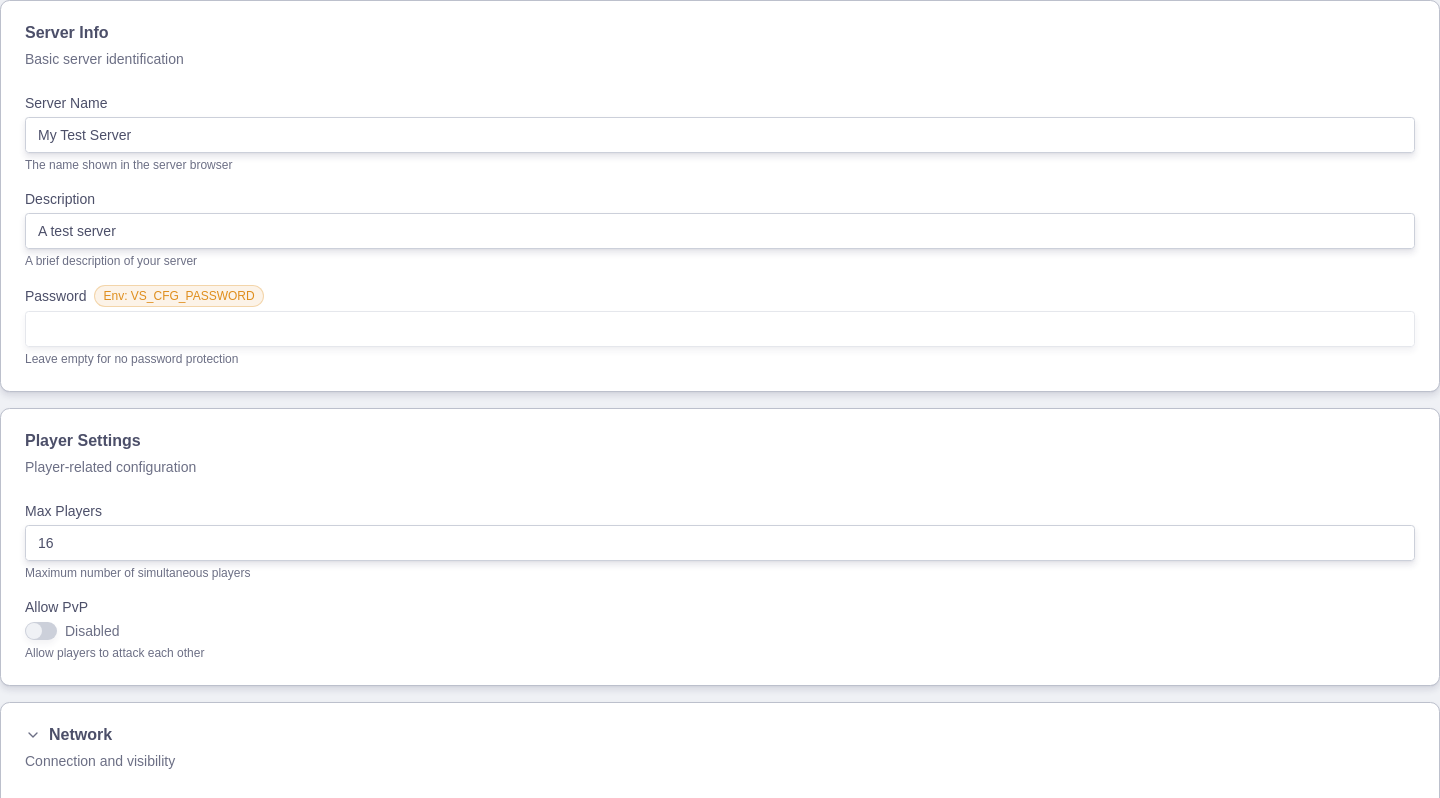
GameConfigPanel › updating settings › shows validation error for invalid values
The width and height of the screenshot is (1440, 798).
Clear server name (required field)
Clear the field labelled "Server Name" at (720, 135), box [25,117,1415,153]
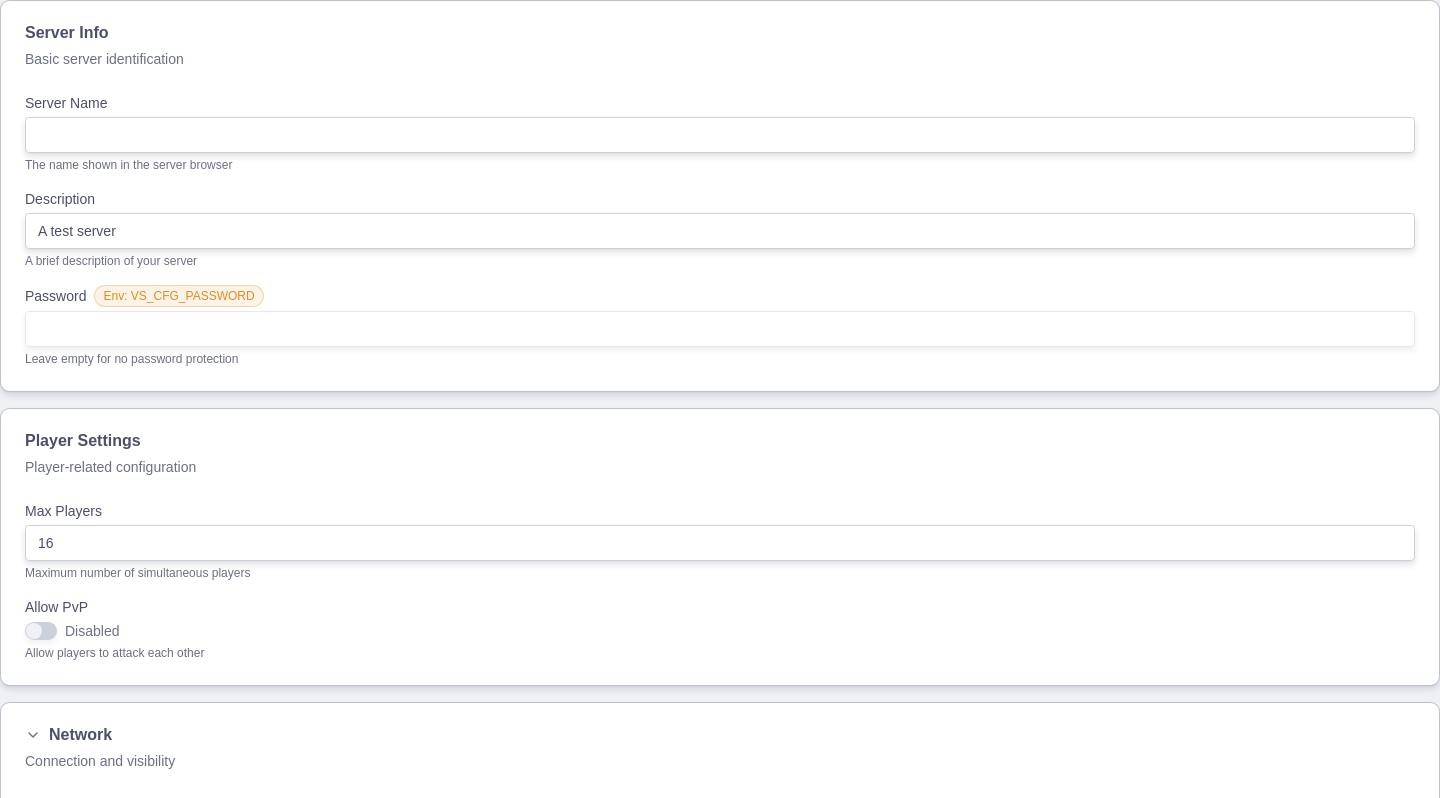
Leave the field labelled "Server Name", box [25,117,1415,153]
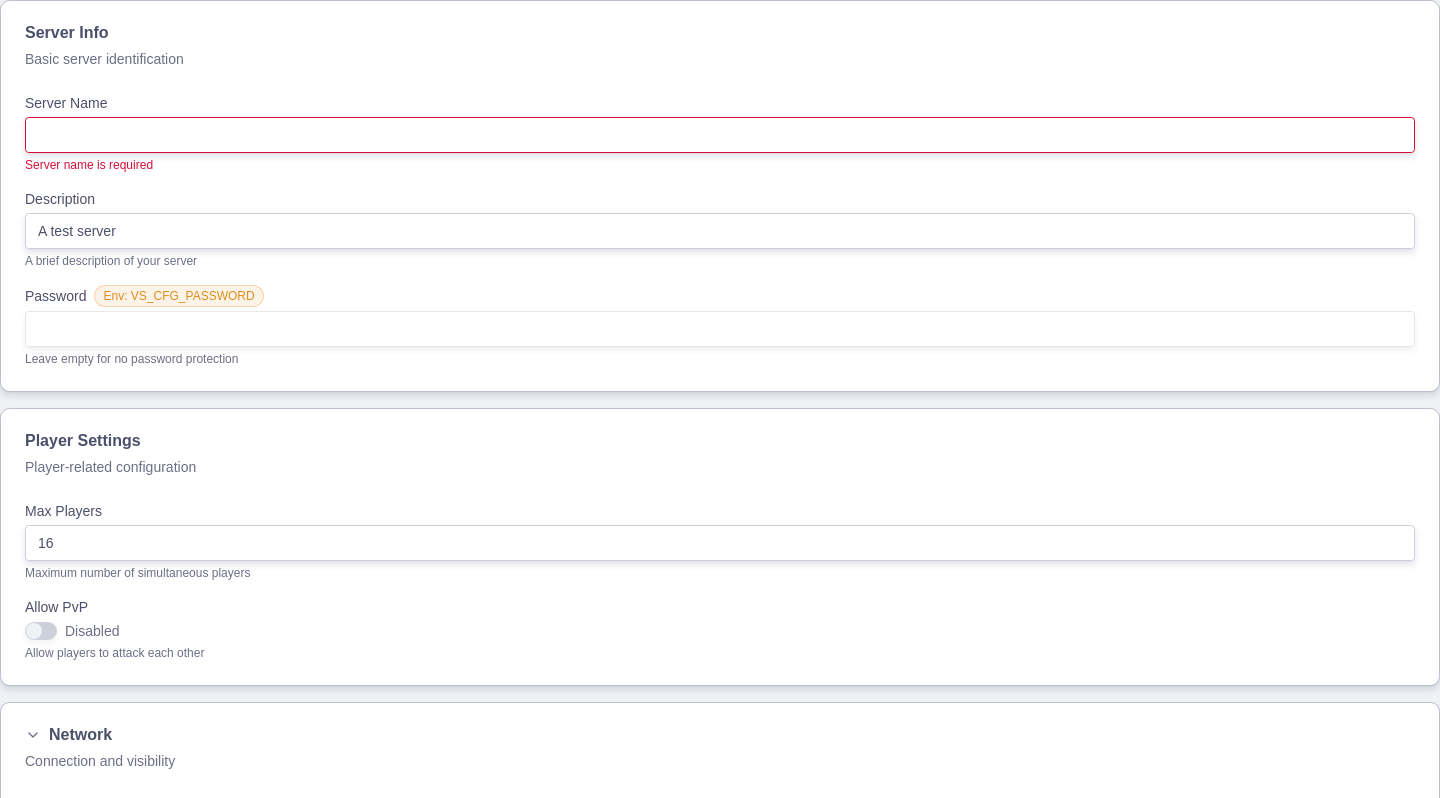
expect the text "Server name is required" is shown: met, box [25,158,153,172]
